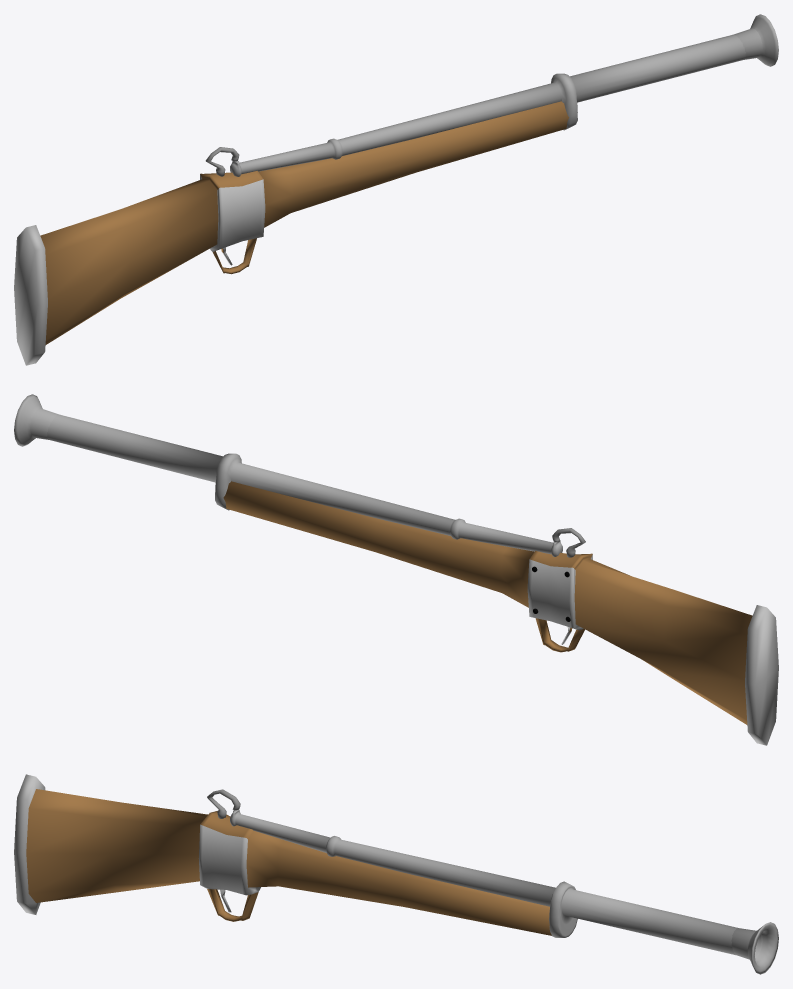
The model's file is gun.glb.
3 views of the same model, one above another, from view 1: azimuth 30°, elevation 25°; view 2: azimuth 150°, elevation 25°; view 3: azimuth 330°, elevation 25° (orthographic).
Parts seen in each view (by area): view 1: Cylinder; view 2: Cylinder; view 3: Cylinder.
Part boxes in pixels (x1,y1,x2,y2): Cylinder: (14,14,778,365); Cylinder: (14,394,778,745); Cylinder: (14,774,778,974).
Bounding box in the file's own units: 12.6 × 2.78 × 0.797.
